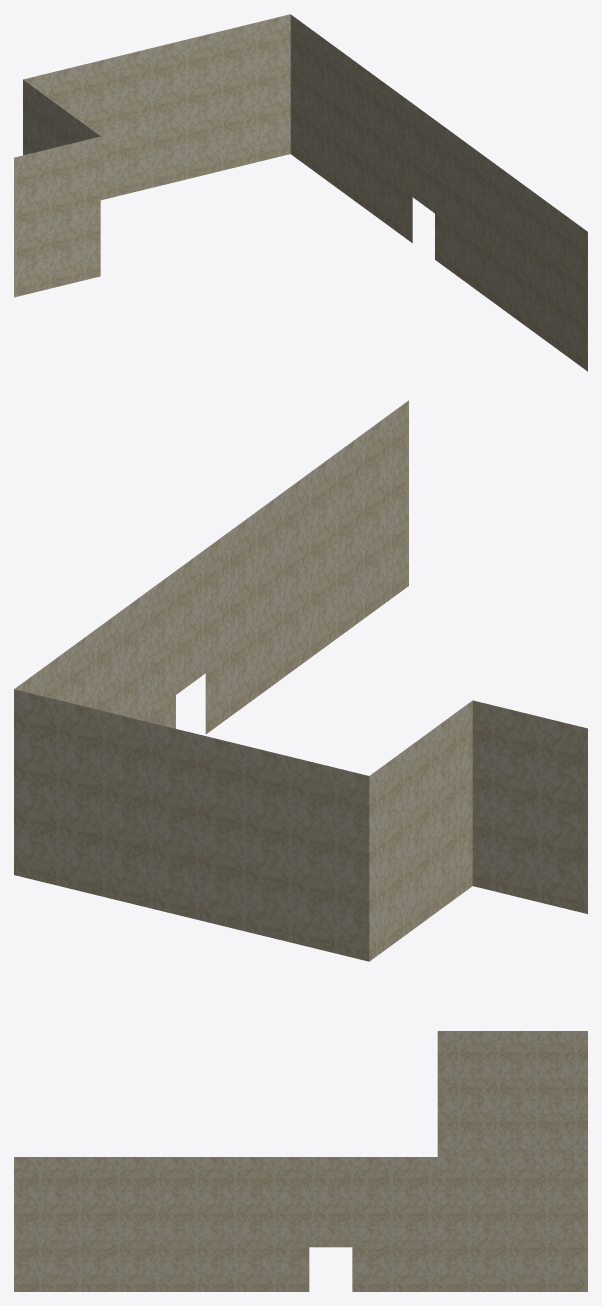
Rendered from Wall_LivingRoom.FBX.
The picture shows the model from 3 angles, top to bottom: view 1: azimuth 30°, elevation 25°; view 2: azimuth 150°, elevation 25°; view 3: azimuth 270°, elevation 25°; orthographic projection. The views are drawn at different scales.
Parts seen in each view (by area): view 1: Living_Room_Wall; view 2: Living_Room_Wall; view 3: Living_Room_Wall.
Part boxes in pixels (x1,y1,x2,y2): Living_Room_Wall: (14, 14, 587, 371); Living_Room_Wall: (14, 400, 587, 961); Living_Room_Wall: (14, 1031, 587, 1291).
Size of the model in its own units: 791 by 298 by 1150.
